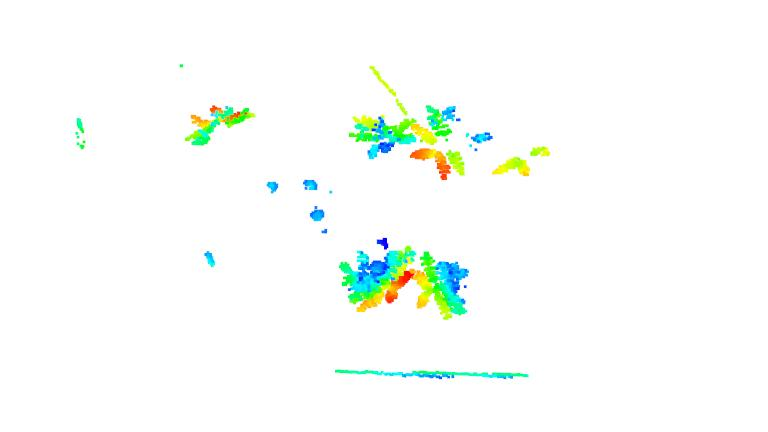chickpea: (412, 103, 493, 182), (339, 241, 415, 311), (408, 250, 467, 320), (184, 101, 256, 147), (354, 113, 416, 160), (492, 145, 553, 177)
